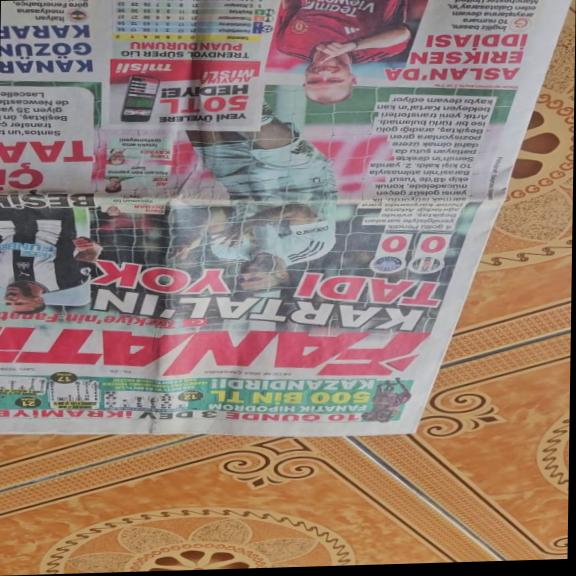Kertas: (2, 0, 573, 442)
